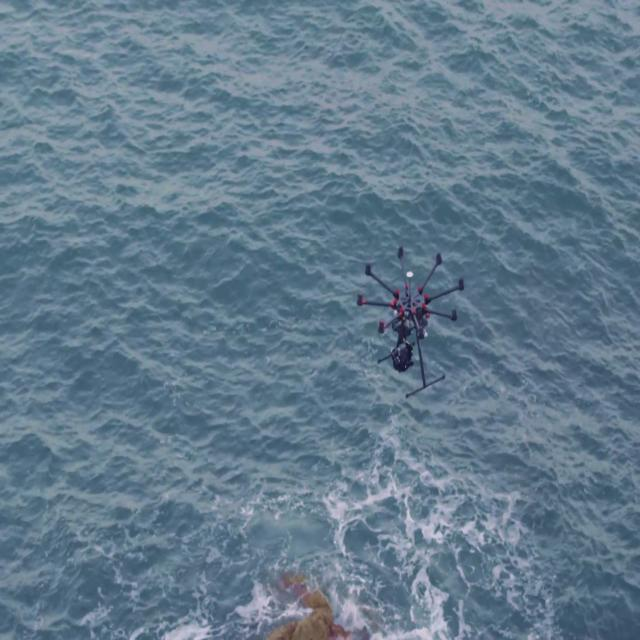drone: (344, 225, 475, 412)
